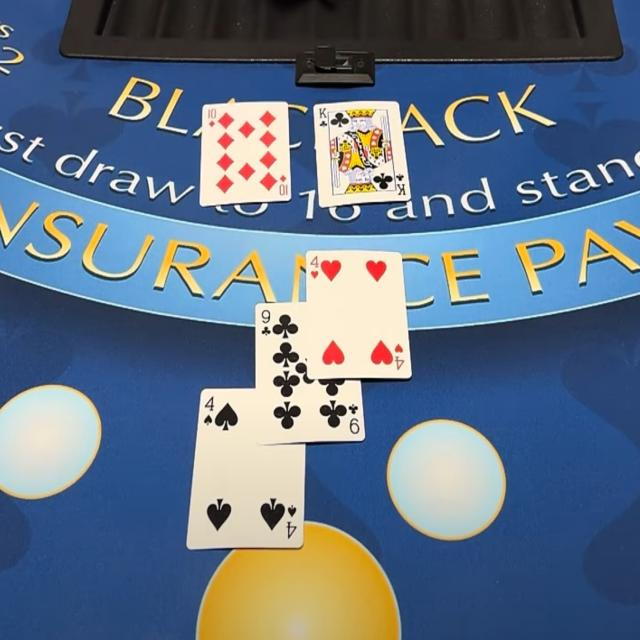10: (204, 105, 218, 120)
4: (202, 394, 216, 413)
9: (258, 308, 272, 325)
K: (316, 105, 328, 120), (308, 253, 319, 269)
